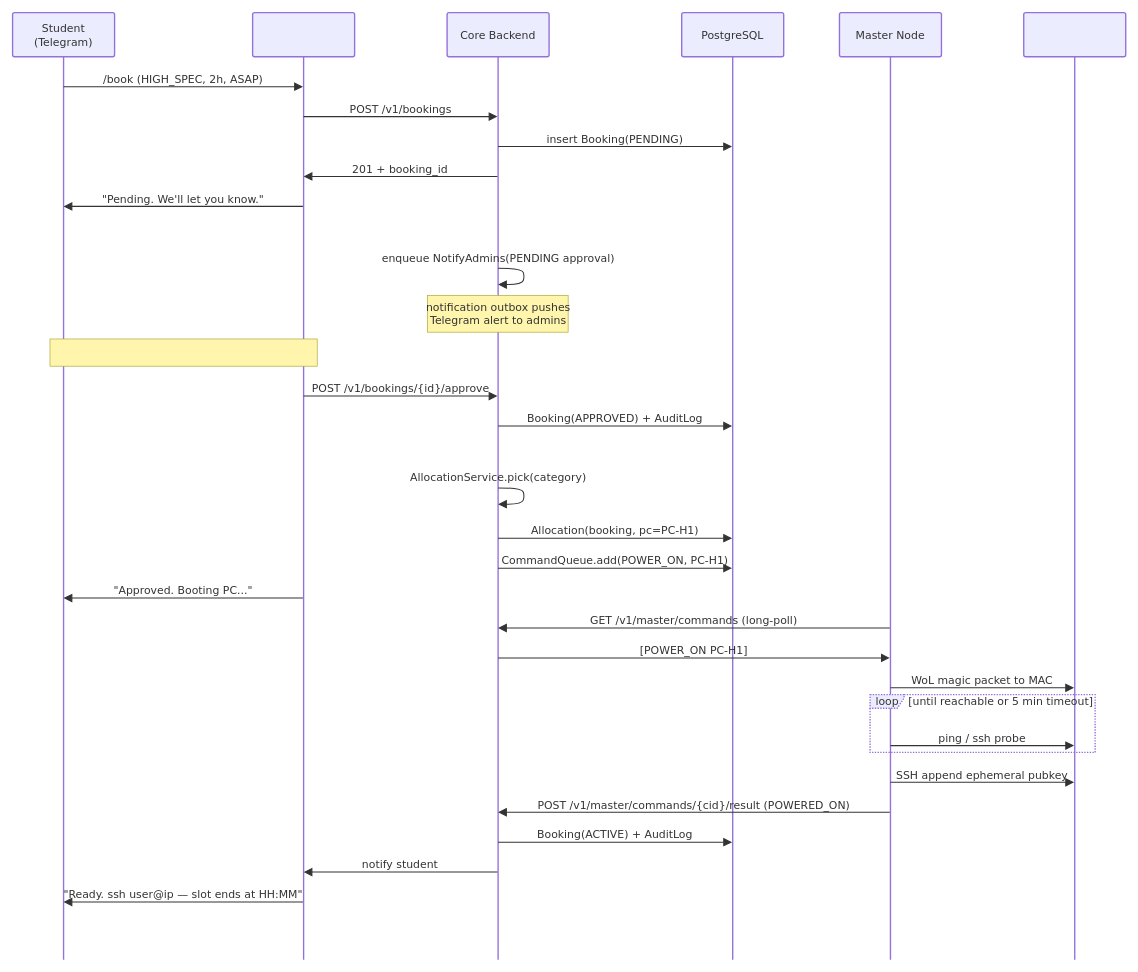
Image size: 1138x972. Some labels were removed from this diagram. Each missing label, with the box of its shape:
Admin taps Approve inline button: (49, 338, 317, 366)
Allocated Lab PC: (1023, 12, 1126, 960)
Bot Service: (252, 12, 355, 960)
